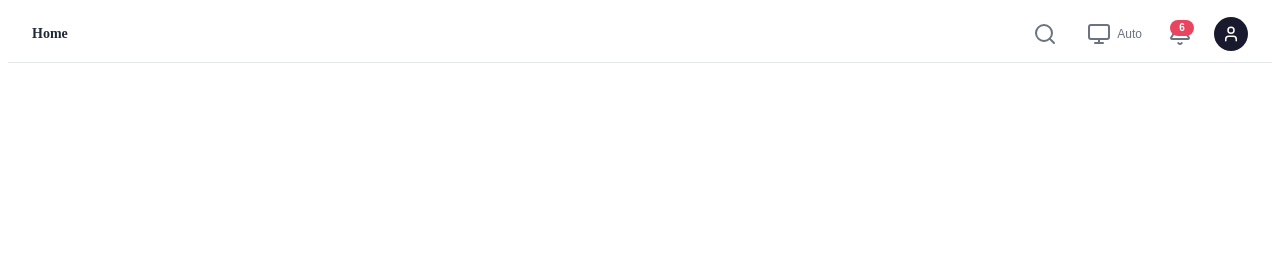
TopBar › opens profile dropdown on click
The width and height of the screenshot is (1280, 260).
Click the button named "User menu": [1231, 34] box [1214,17,1248,51]
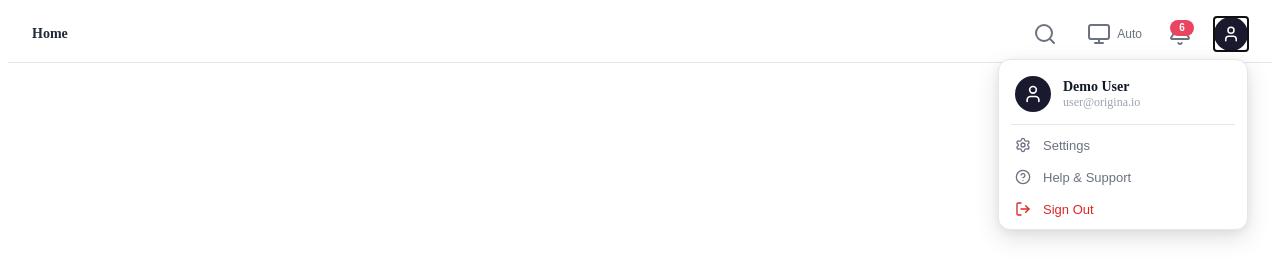
Result: the menu is shown at [998,59,1248,230]
Result: the text "Demo User" is shown at [1063,78,1140,94]
Result: the text "Settings" is shown at [1043,138,1090,152]
